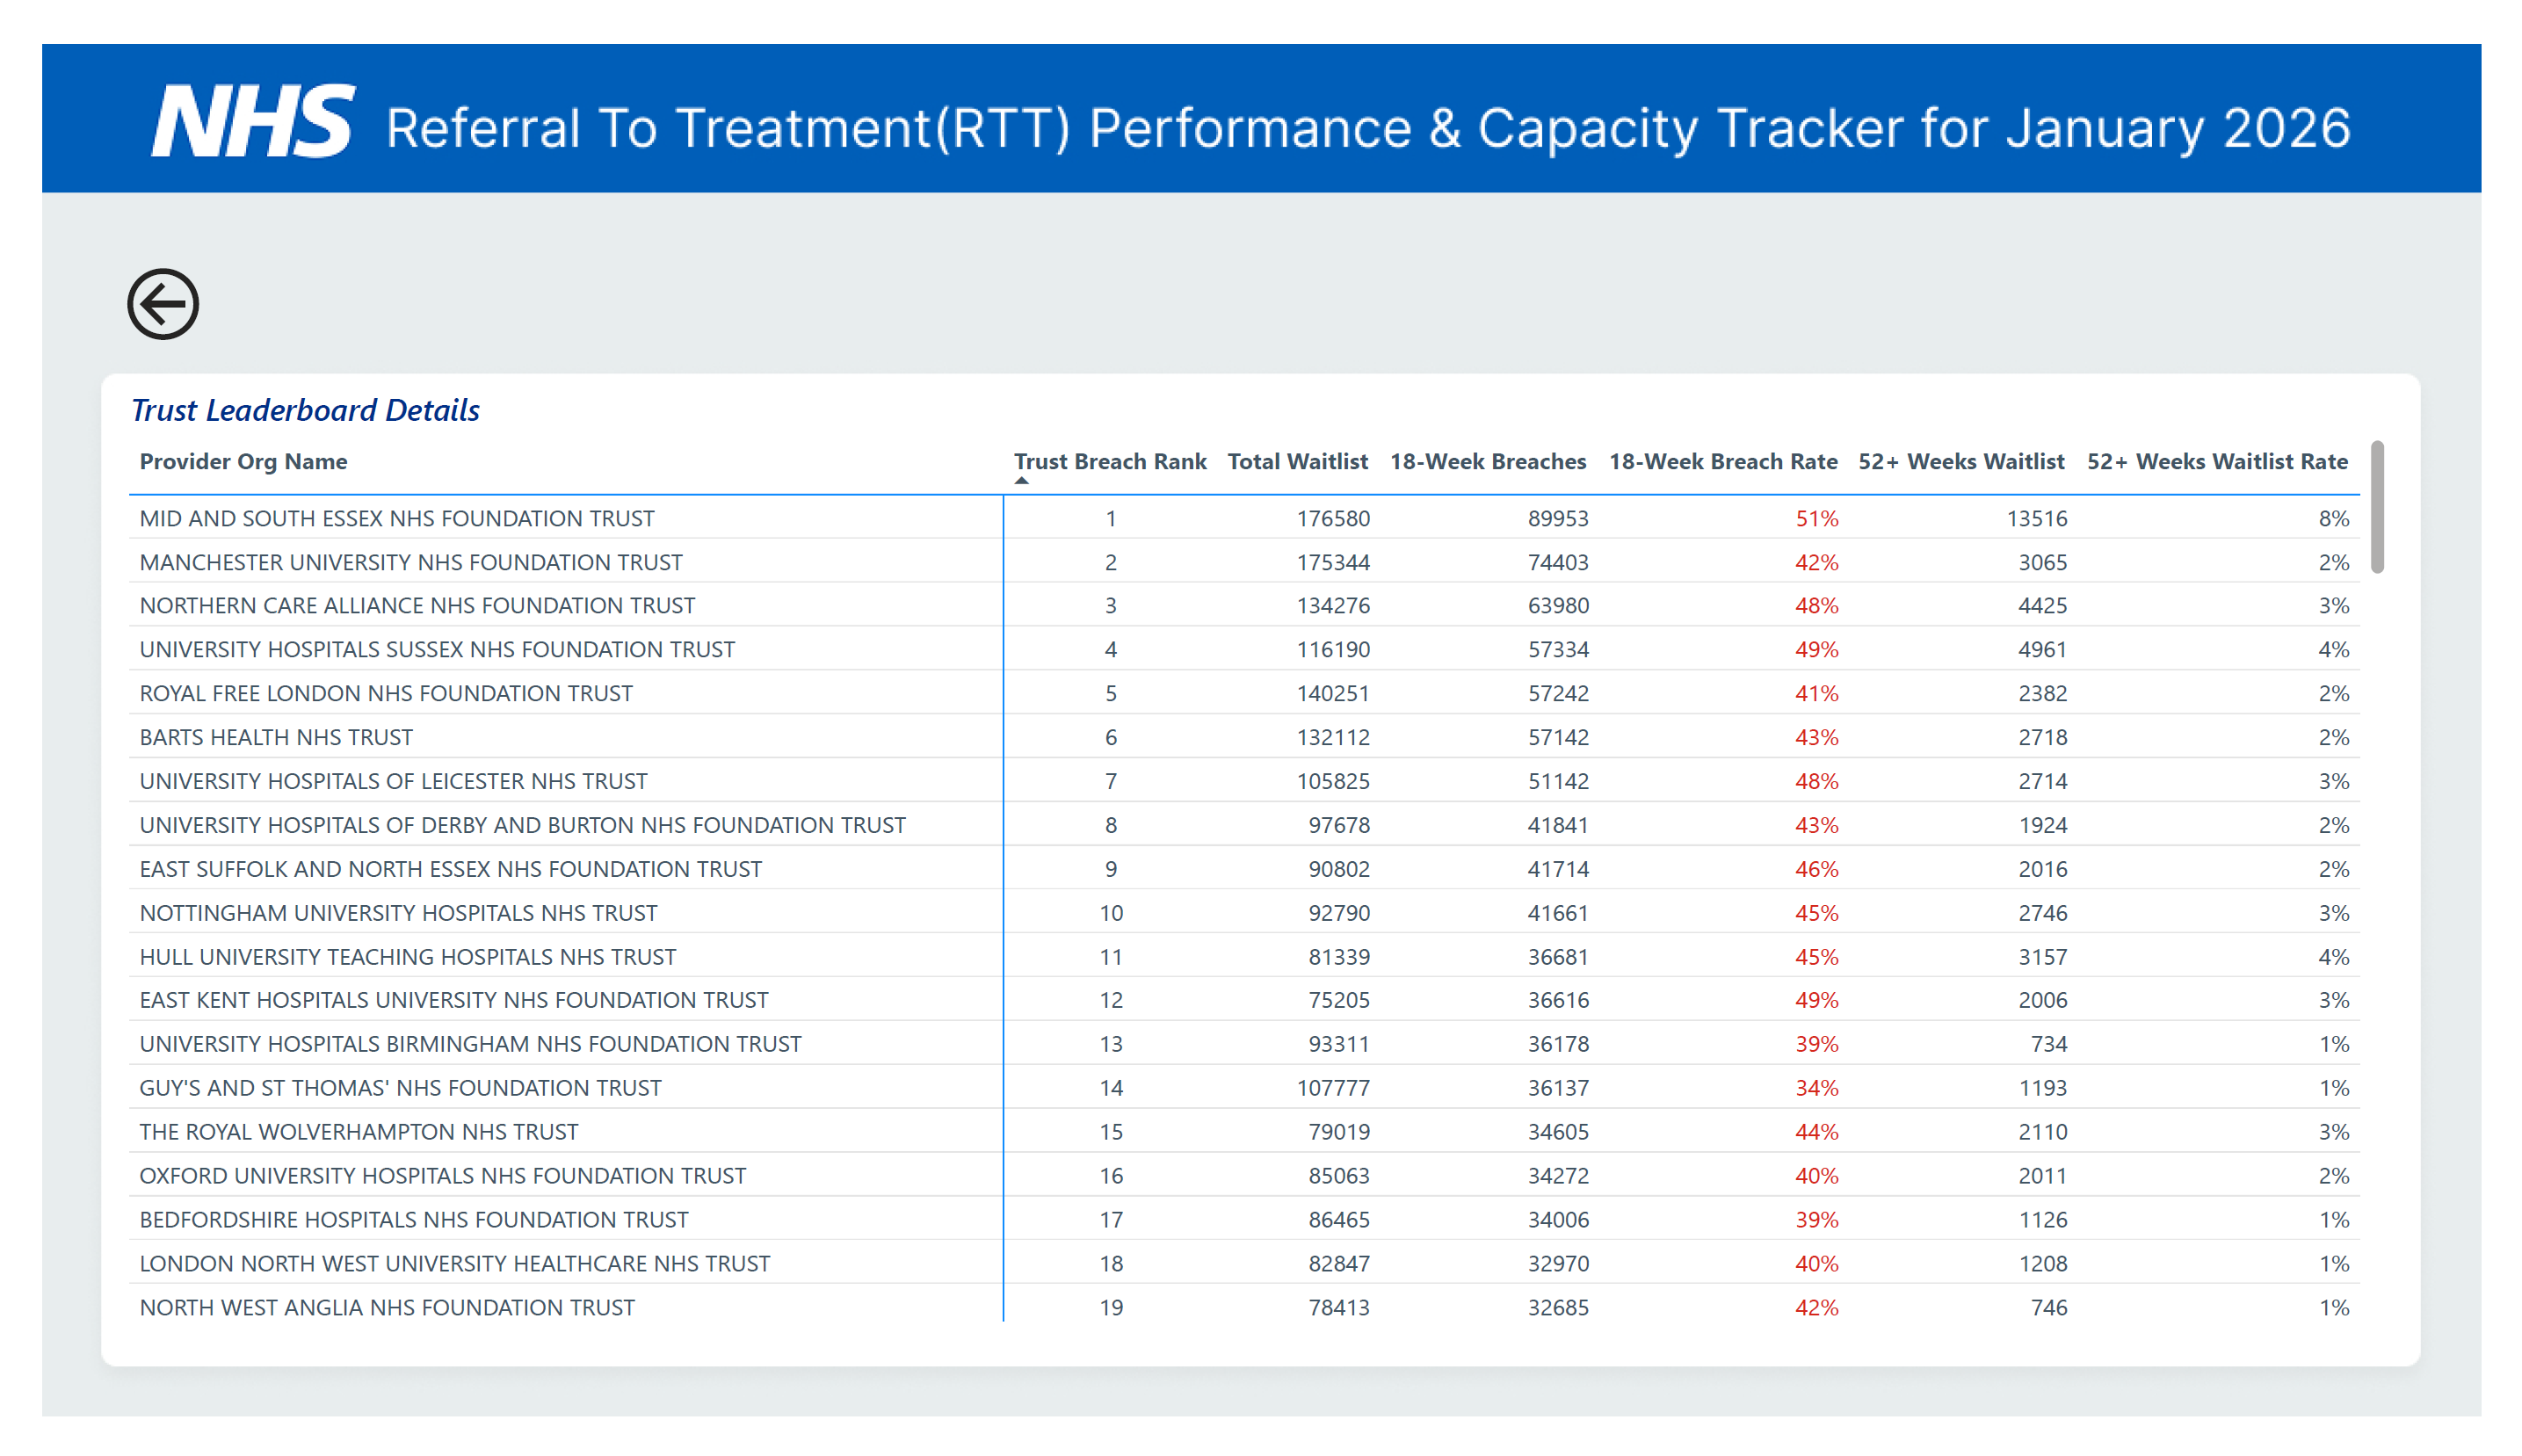

The dashboard page shown, as its layout file describes it:
{"tool":"powerbi","page":{"name":"Trust Leaderboard Details","canvas":[1280,720],"ordinal":1},"visuals":[{"type":"actionButton","box":[39,112,55,49],"z":0},{"type":"pivotTable","title":"Trust Leaderboard Details","fields":{"Rows":["Dim_Provider.Provider Org Name"],"Values":["_Key Measures.Trust Breach Rank","_Key Measures.Total Waitlist","_Key Measures.Total 18-Week Breaches","_Key Measures.18-Week Breach Rate","_Key Measures.Patients Waiting for 52+ Weeks","_Key Measures.% of Patients Waiting for 52+ Weeks"]},"box":[41,181,1194,494],"z":1000}]}

Visuals, with their boxes in screenshot pixels (x1, y1, x2, y2), scaled from the page's 1280x720 canvas onto the 2522x1456 screenshot:
actionButton: 76 227 185 326
"Trust Leaderboard Details" pivotTable: 81 366 2433 1365
